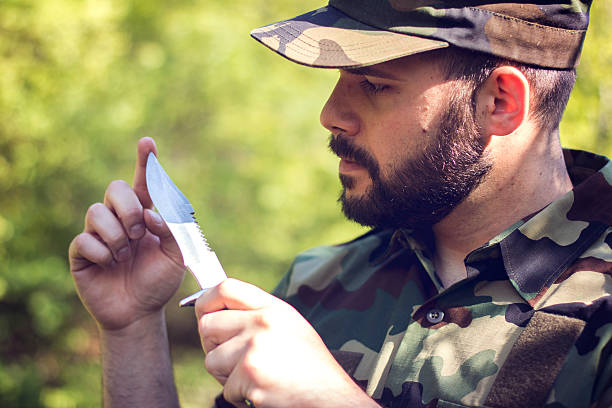knife: (144, 149, 232, 307)
